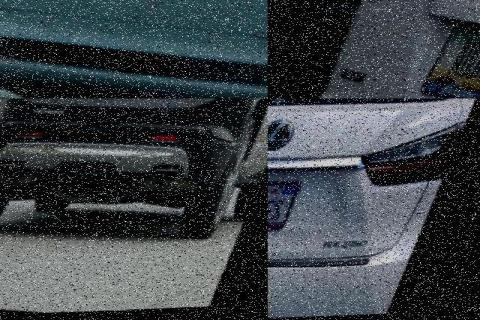LicensePlate: (138, 0, 261, 38), (422, 21, 480, 98), (268, 175, 316, 231), (96, 99, 151, 113)
